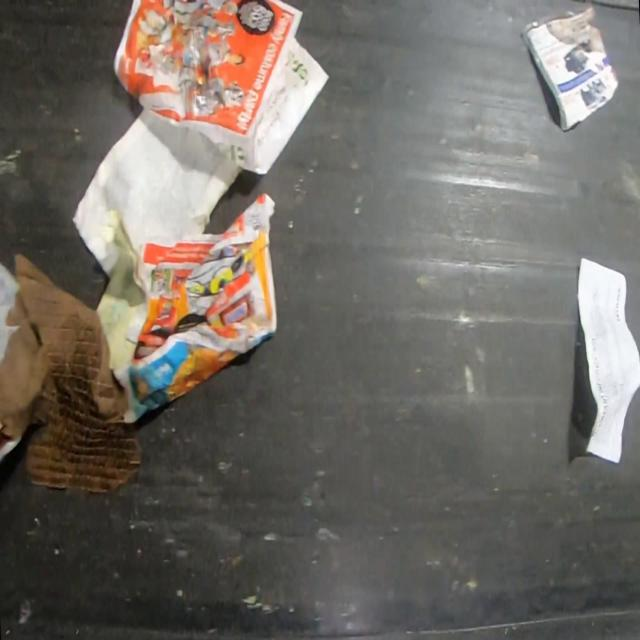cardboard: (0, 251, 143, 498)
